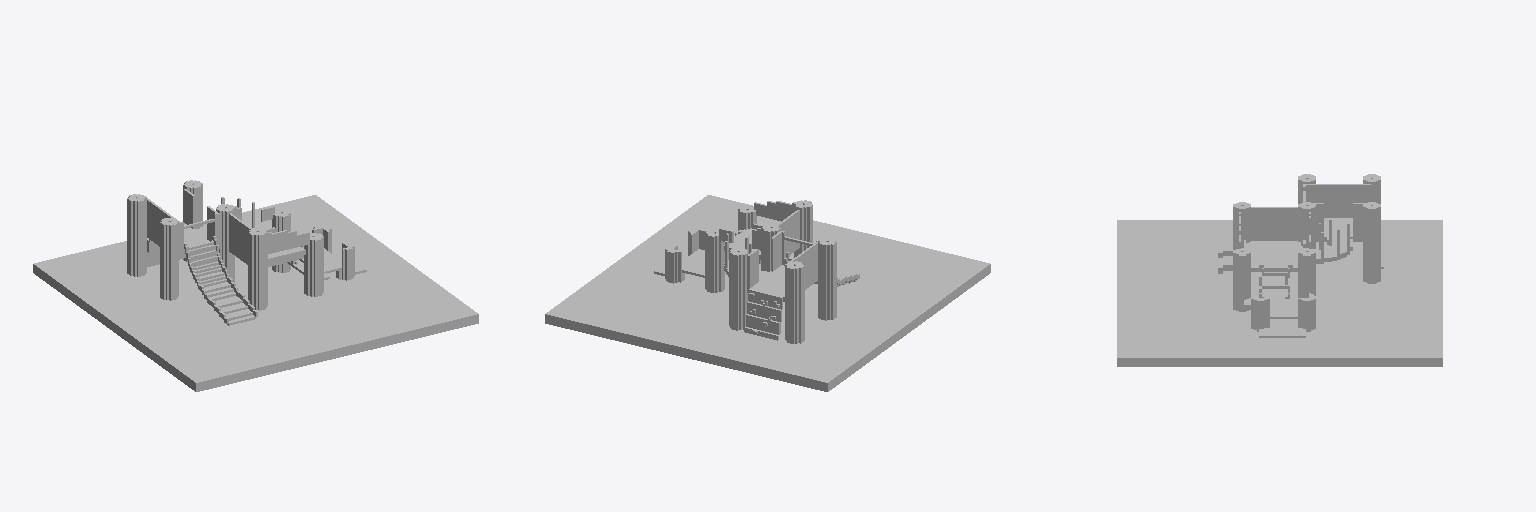
Rendered from 4x4 parc-2.obj.
3 renders of one model, left to right at view 1: azimuth 30°, elevation 25°; view 2: azimuth 150°, elevation 25°; view 3: azimuth 270°, elevation 25°, orthographic.
Parts seen in each view (by area): view 1: 4x4 parc-2; view 2: 4x4 parc-2; view 3: 4x4 parc-2.
Part boxes in pixels (bbox=[...]): 4x4 parc-2: bbox=[33, 180, 478, 391]; 4x4 parc-2: bbox=[545, 195, 990, 391]; 4x4 parc-2: bbox=[1117, 174, 1442, 366].
Size of the model in its own units: 126 by 36 by 126.